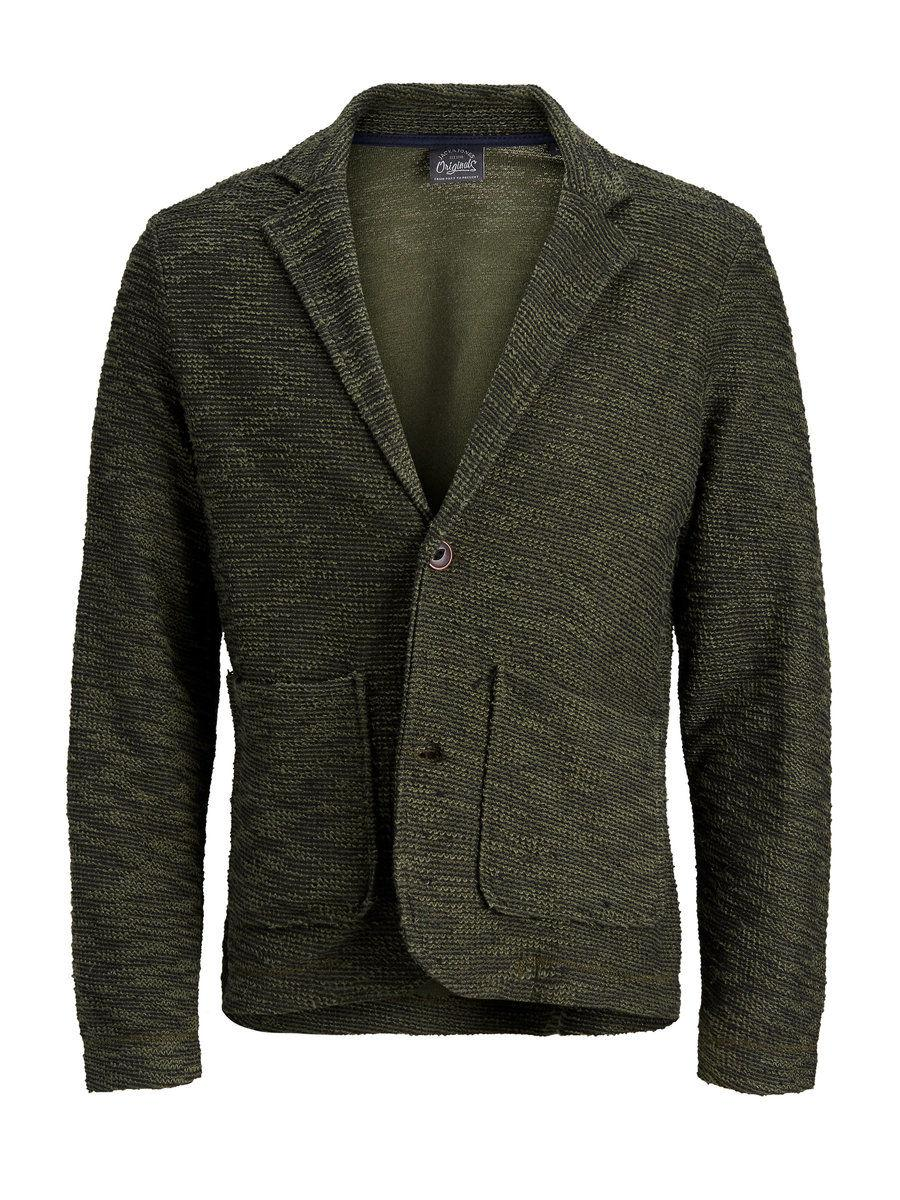teeshirt: (65, 76, 845, 1113)
